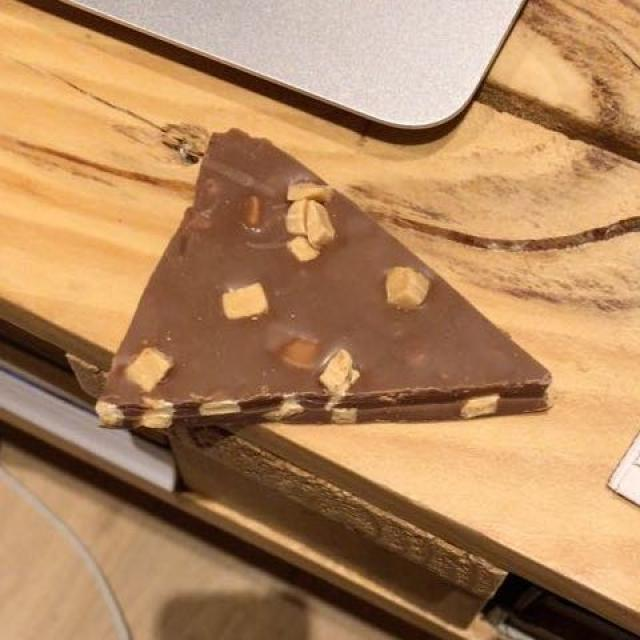chocolate: (97, 138, 547, 414)
